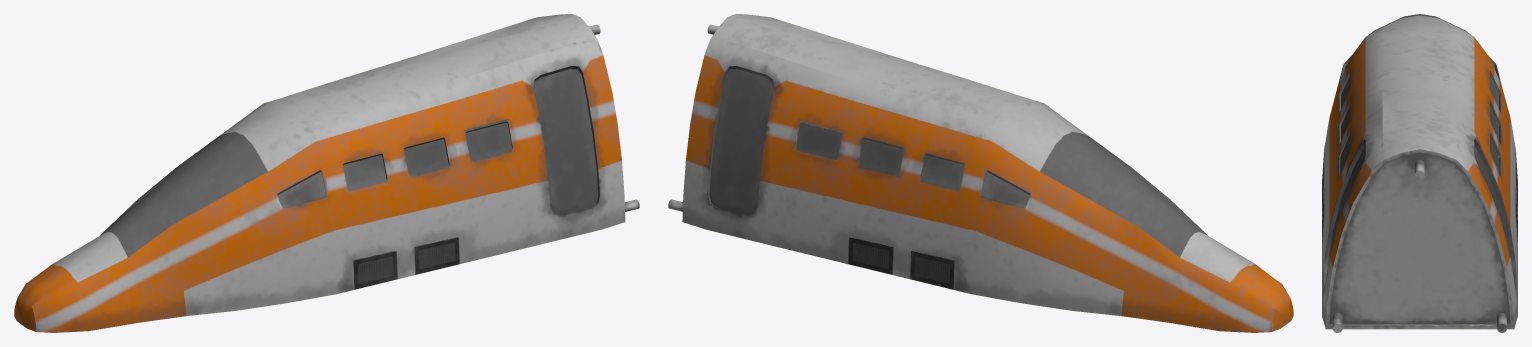
File: trainfrontfinal.fbx
3 renders of one model, left to right at view 1: azimuth 30°, elevation 25°; view 2: azimuth 150°, elevation 25°; view 3: azimuth 270°, elevation 25°, orthographic. The views are drawn at different scales.
Visible parts, largest first — view 1: Cylinder.012; view 2: Cylinder.012; view 3: Cylinder.012.
Boxes of the visible parts, x1=… form: Cylinder.012: x1=14, y1=14, x2=639, y2=332; Cylinder.012: x1=668, y1=14, x2=1293, y2=332; Cylinder.012: x1=1322, y1=14, x2=1517, y2=332.
Bounding box in the file's own units: 592 × 170 × 167.
